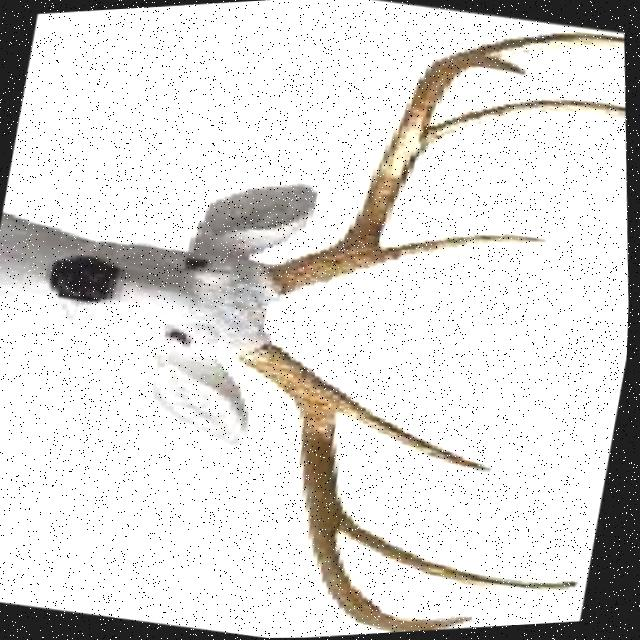L-F: (264, 30, 625, 295)
L-G1: (371, 233, 551, 269)
L-G2: (428, 98, 627, 149)
L-G3: (475, 59, 527, 79)
R-F: (241, 339, 424, 634)
R-G1: (340, 388, 501, 476)
R-G3: (341, 504, 587, 595)
R-G4: (408, 616, 479, 631)
